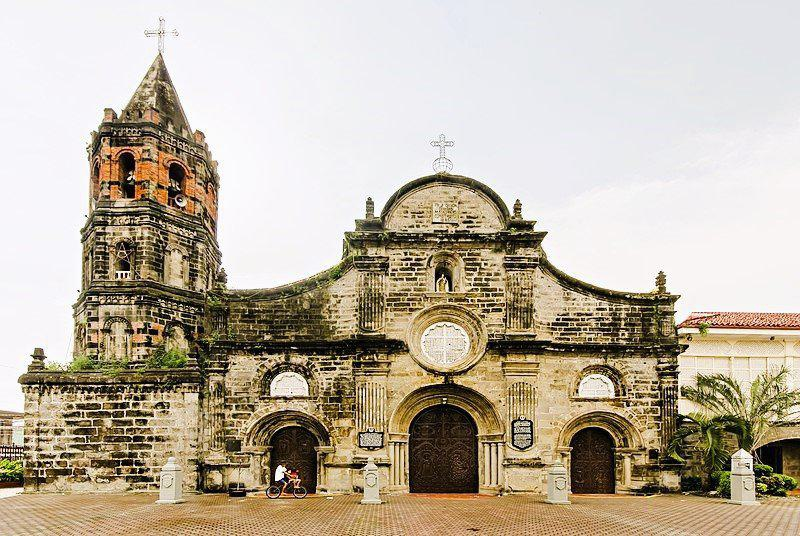barasoain_church_malolos_bulacan: (18, 17, 680, 496)
